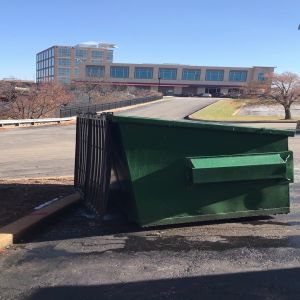Dumpster: (73, 109, 297, 225)
